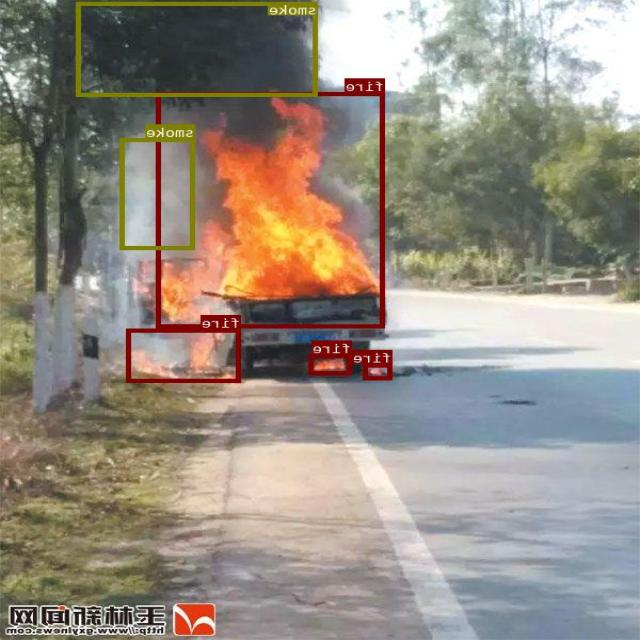fire: (157, 91, 386, 327), (128, 328, 242, 382), (310, 354, 352, 374), (364, 363, 393, 379)
smoke: (78, 1, 318, 96), (121, 137, 196, 249)
